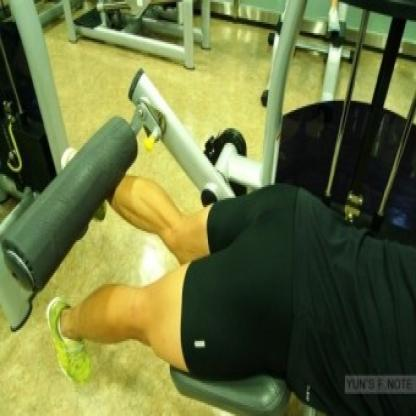reg curl machine: (0, 0, 416, 414)
